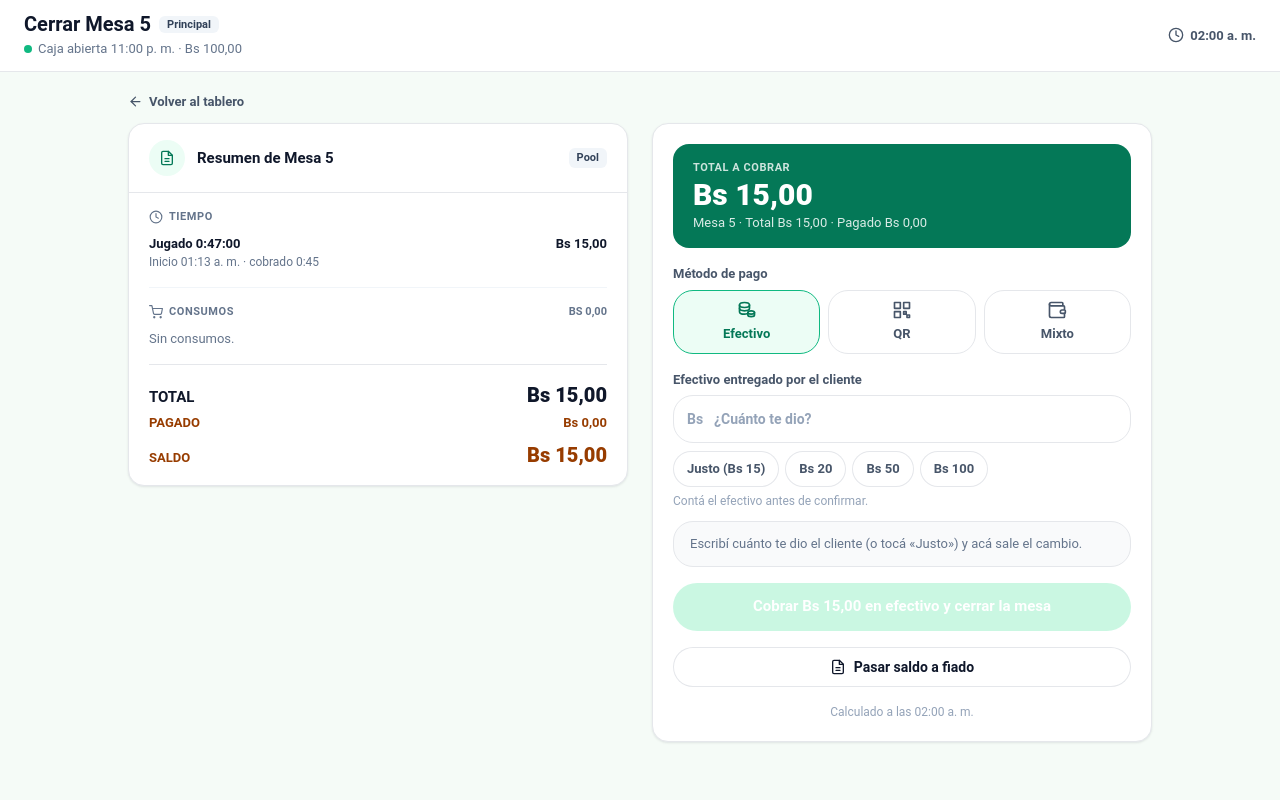
Test case: Cerrar mesa con la cuenta vieja › si la cuenta se está por vencer, se recalcula sola antes de que se cuente el vuelto
Expected: the text "Total a cobrar" is shown, [693,161,790,174]
In the field named "Efectivo entregado por el cliente": (902, 419) [673,395,1131,443], type "20"
(page scrolled)
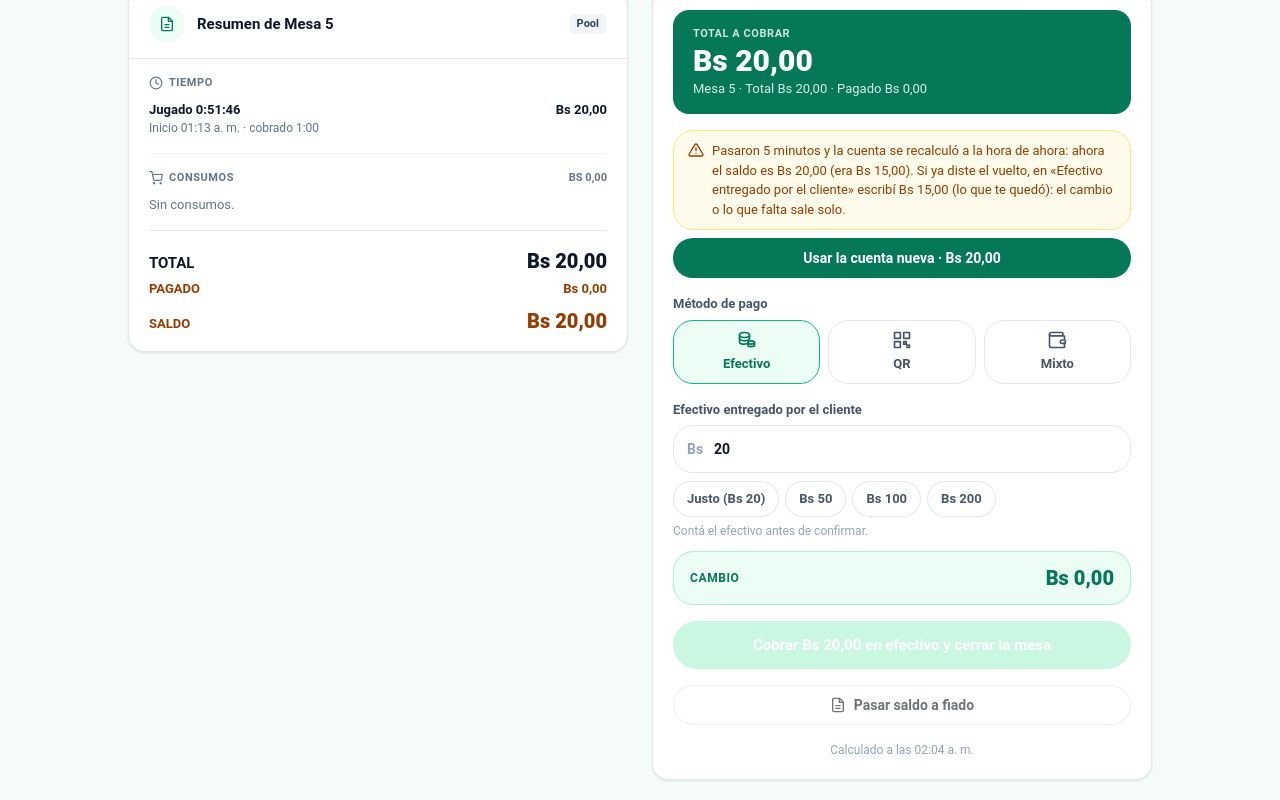
Expected: the button "Cobrar Bs 20,00 en efectivo y cerrar la mesa" is disabled, [673,621,1131,669]
Result: the text "Pasaron 5 minutos" shows "ahora el saldo es Bs.20,00 (era Bs.15,00). Si ya diste el vuelto, en «Efectivo entregado por el cliente» escribí Bs.15,00" at [712,143,1113,216]
